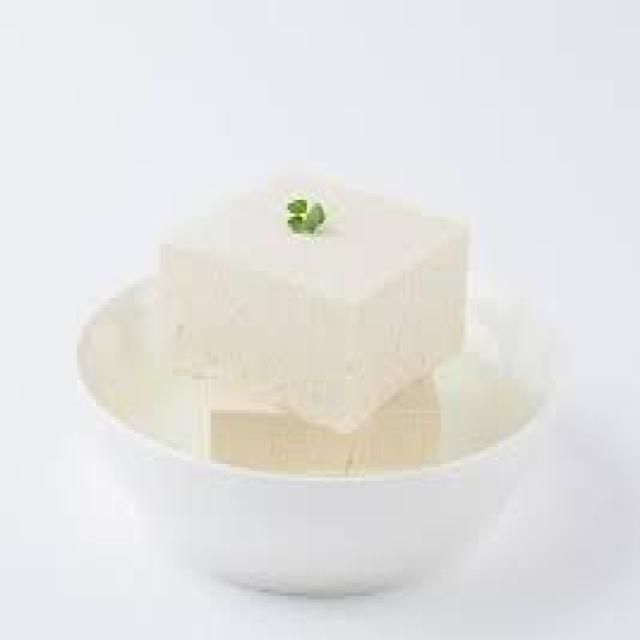tofu: (142, 117, 500, 469)
